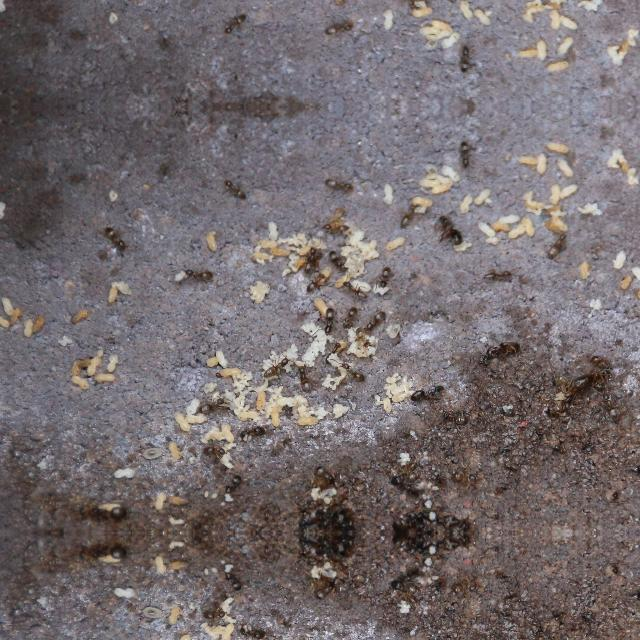Tapinoma: (471, 334, 524, 366), (432, 210, 472, 248), (78, 496, 132, 522), (78, 543, 132, 569), (97, 224, 133, 256), (542, 228, 578, 260), (392, 198, 426, 230), (170, 262, 218, 284), (406, 379, 450, 403), (450, 136, 480, 170), (450, 42, 480, 76), (566, 370, 612, 392), (312, 462, 348, 490), (312, 576, 348, 602), (260, 353, 294, 379), (220, 176, 254, 202), (220, 10, 254, 36), (315, 303, 341, 335), (479, 262, 519, 282), (298, 244, 324, 274), (292, 363, 318, 392), (338, 358, 369, 382), (300, 270, 328, 296), (231, 422, 267, 442), (362, 309, 391, 333), (322, 174, 360, 192), (322, 20, 360, 38), (327, 250, 355, 274), (373, 262, 397, 290), (231, 622, 267, 640), (338, 279, 370, 299), (200, 396, 226, 420), (340, 303, 362, 329), (588, 352, 614, 372), (204, 440, 226, 460), (392, 0, 426, 12), (204, 606, 226, 624)
